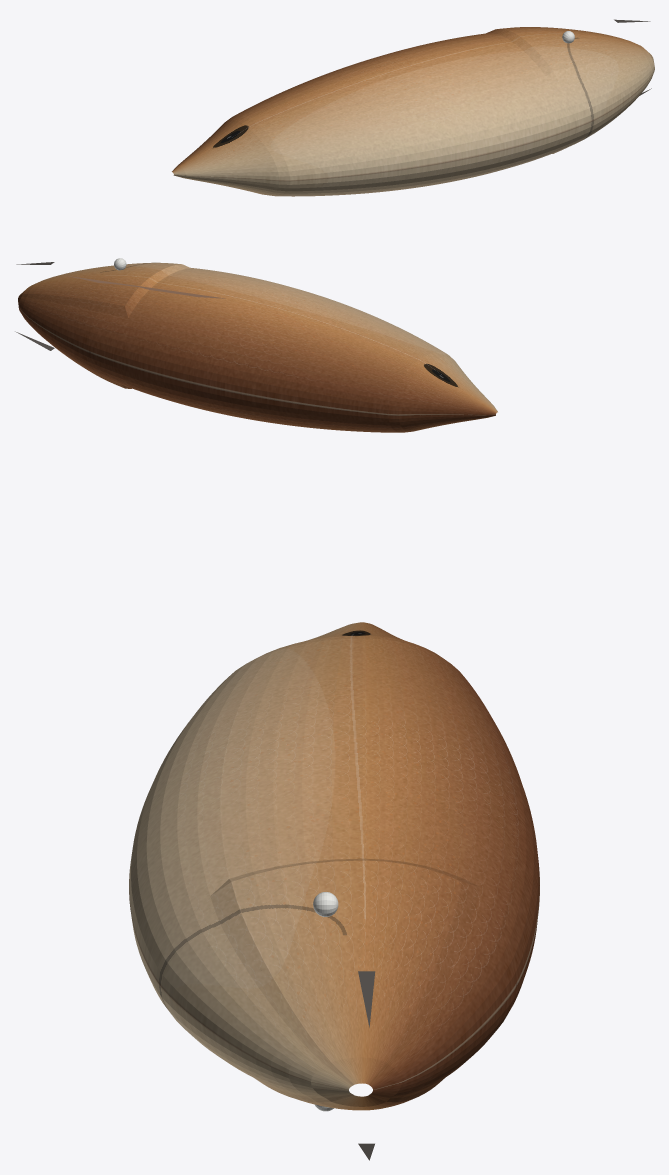
File: red_drum_redfish_photoreal_style.glb
3 renders of one model, top to bottom at view 1: azimuth 30°, elevation 25°; view 2: azimuth 150°, elevation 25°; view 3: azimuth 270°, elevation 25°, orthographic. The views are drawn at different scales.
Visible parts, largest first — view 1: body; view 2: body, pectoral_fin_1; view 3: body.
Part boxes in pixels (x1,y1,x2,y2): body: [172, 27, 654, 196]; body: [18, 262, 497, 432]; pectoral_fin_1: [66, 275, 225, 298]; body: [129, 622, 539, 1110].
Bounding box in the file's own units: 4.14 × 0.792 × 1.21.
Materials: 1 (1 with a texture image).
